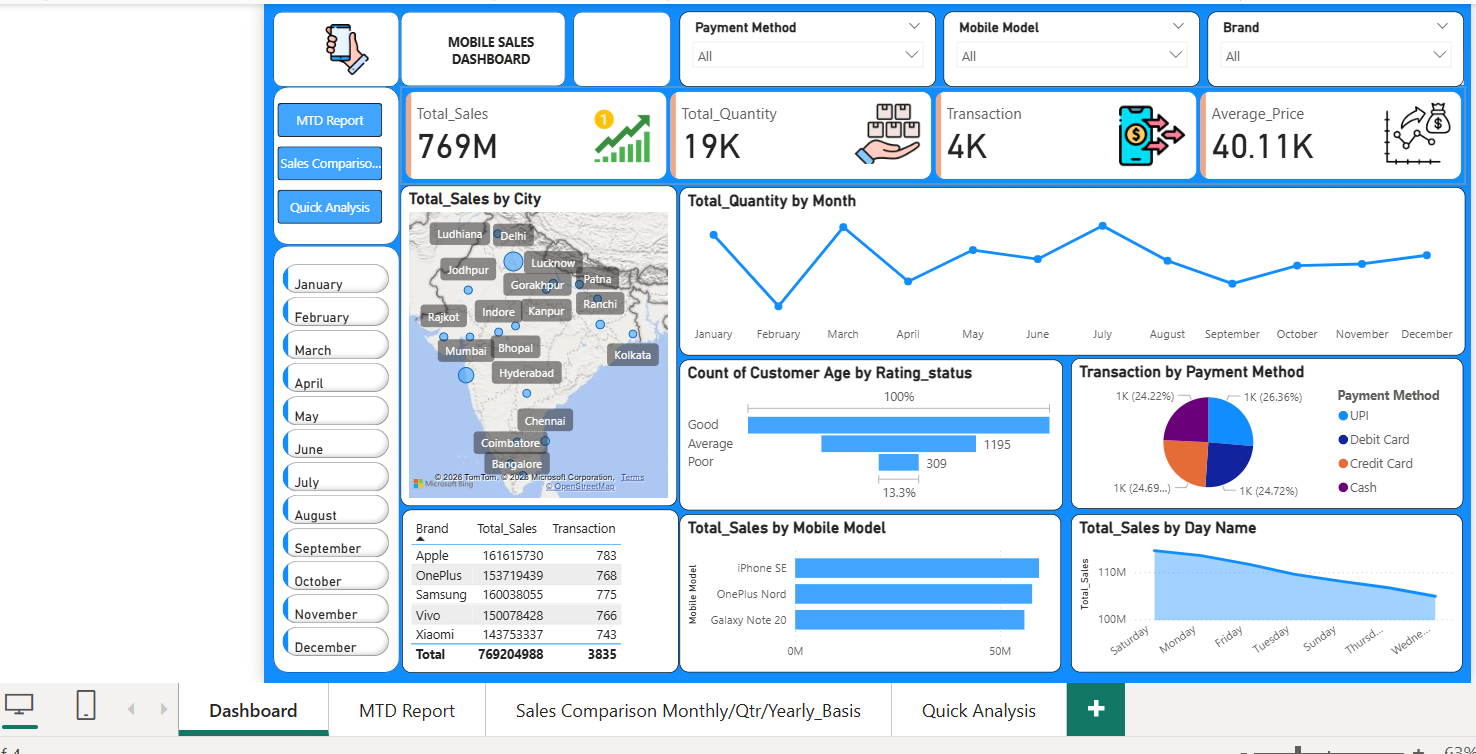

What the dashboard file says about the page in this screenshot:
{"tool":"powerbi","page":{"name":"Dashboard","canvas":[1280,720],"ordinal":0},"visuals":[{"type":"shape","box":[9,8,134,80],"z":0},{"type":"image","box":[32,16,112,64],"z":1000},{"type":"shape","box":[9,88,134,168],"z":2000},{"type":"shape","box":[8.9,255.6,134.4,453.3],"z":3000},{"type":"advancedSlicerVisual","fields":{"Values":["Date.Date.Variation.Date Hierarchy.Month"]},"box":[15,270,123.3,426.7],"z":4000},{"type":"cardVisual","fields":{"Data":["Mobile_sales.Total_Sales","Mobile_sales.Total_Quantity","Mobile_sales.Transaction","Mobile_sales.Average_Price"]},"box":[144,88,1130,103],"z":5000},{"type":"slicer","fields":{"Values":["Mobile_sales.Mobile Model"]},"box":[720,8,272,80],"z":6000},{"type":"slicer","fields":{"Values":["Mobile_sales.Payment Method"]},"box":[440,8,272,80],"z":7000},{"type":"slicer","fields":{"Values":["Mobile_sales.Brand"]},"box":[1000,8,272,80],"z":8000},{"type":"shape","box":[328,8,104,80],"z":9000},{"type":"shape","box":[145.2,8.6,175.3,79.6],"z":10000},{"type":"textbox","box":[176.3,24.7,128,47.3],"z":11000},{"type":"map","fields":{"Category":["Mobile_sales.City"],"Size":["Mobile_sales.Total_Sales"]},"box":[145.2,192.5,293,340],"z":12000},{"type":"lineChart","fields":{"Category":["Date.Date.Variation.Date Hierarchy.Month"],"Y":["Mobile_sales.Total_Quantity"]},"box":[440,193.3,833.3,178.3],"z":13000},{"type":"funnel","fields":{"Y":["CountNonNull(Mobile_sales.Customer Age)"],"Category":["Mobile_sales.Rating_status"]},"box":[440,376.7,406.7,160],"z":14000},{"type":"pieChart","fields":{"Category":["Mobile_sales.Payment Method"],"Y":["Mobile_sales.Transaction"]},"box":[856,376,416,160],"z":15000},{"type":"clusteredBarChart","fields":{"Y":["Mobile_sales.Total_Sales"],"Category":["Mobile_sales.Mobile Model"]},"box":[441.1,541.1,404.4,168],"z":16000},{"type":"areaChart","fields":{"Y":["Mobile_sales.Total_Sales"],"Category":["Date.Day Name"]},"box":[855.6,541.1,415.6,168],"z":17000},{"type":"tableEx","fields":{"Values":["Mobile_sales.Brand","Mobile_sales.Total_Sales","Mobile_sales.Transaction"]},"box":[146,536,293,173],"z":18000},{"type":"pageNavigator","box":[15,105,111.7,130],"z":19000}]}

Visuals, with their boxes on the page's 1280x720 design canvas (x1, y1, x2, y2). These are canvas units, not pixel positions in the 1476x754 screenshot, which may show the page scaled, cropped or inside an application window:
shape: box=[9, 8, 143, 88]
image: box=[32, 16, 144, 80]
shape: box=[9, 88, 143, 256]
shape: box=[9, 256, 143, 709]
advancedSlicerVisual - Date.Date.Variation.Date Hierarchy.Month: box=[15, 270, 138, 697]
cardVisual - Mobile_sales.Total_Sales x Mobile_sales.Total_Quantity: box=[144, 88, 1274, 191]
slicer - Mobile_sales.Mobile Model: box=[720, 8, 992, 88]
slicer - Mobile_sales.Payment Method: box=[440, 8, 712, 88]
slicer - Mobile_sales.Brand: box=[1000, 8, 1272, 88]
shape: box=[328, 8, 432, 88]
shape: box=[145, 9, 320, 88]
textbox: box=[176, 25, 304, 72]
map - Mobile_sales.City x Mobile_sales.Total_Sales: box=[145, 192, 438, 532]
lineChart - Date.Date.Variation.Date Hierarchy.Month x Mobile_sales.Total_Quantity: box=[440, 193, 1273, 372]
funnel - CountNonNull(Mobile_sales.Customer Age) x Mobile_sales.Rating_status: box=[440, 377, 847, 537]
pieChart - Mobile_sales.Payment Method x Mobile_sales.Transaction: box=[856, 376, 1272, 536]
clusteredBarChart - Mobile_sales.Total_Sales x Mobile_sales.Mobile Model: box=[441, 541, 846, 709]
areaChart - Mobile_sales.Total_Sales x Date.Day Name: box=[856, 541, 1271, 709]
tableEx - Mobile_sales.Brand x Mobile_sales.Total_Sales: box=[146, 536, 439, 709]
pageNavigator: box=[15, 105, 127, 235]
